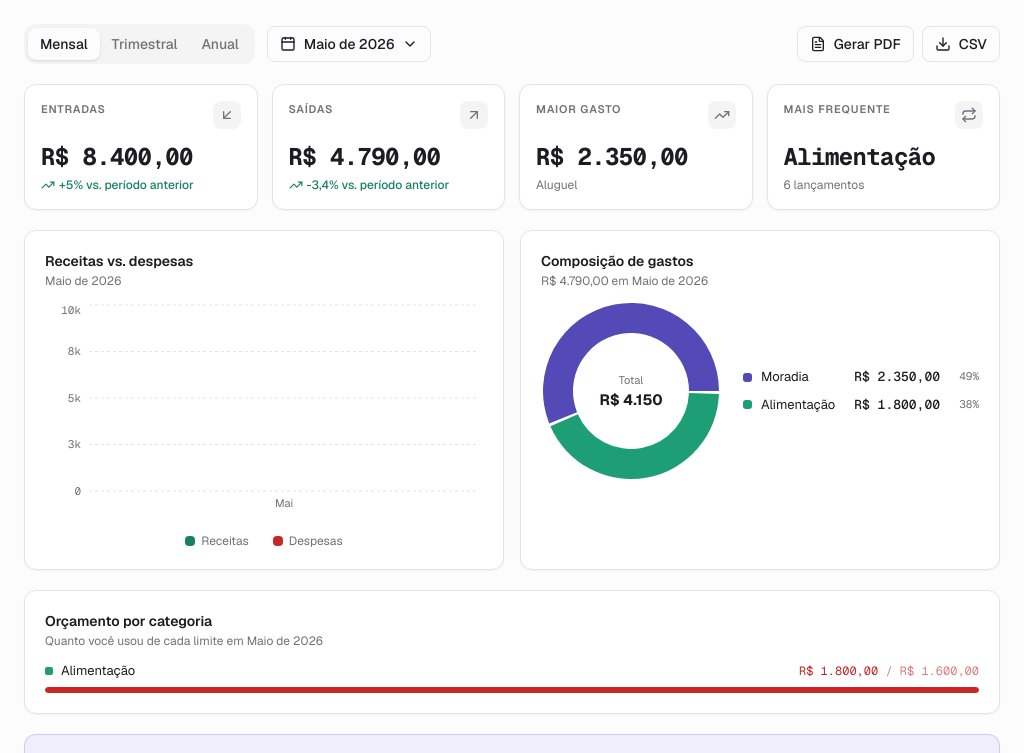
Test case: ReportsScreen › refetches with the chosen granularity
Check: the text "Receitas vs. despesas" is shown, box [45,251,193,271]
Click the tab "Trimestral". click: (144, 44)
box: [100,28,189,60]
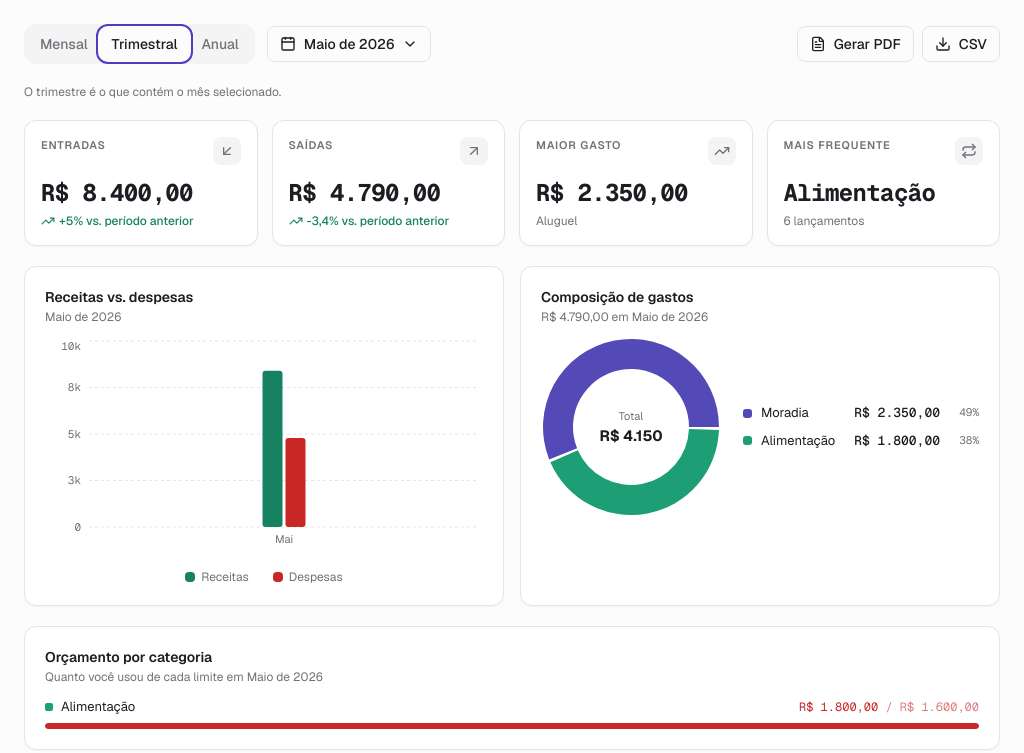
Check: the text "O trimestre é o que contém o mês selecionado." is shown, box [24,84,281,100]
